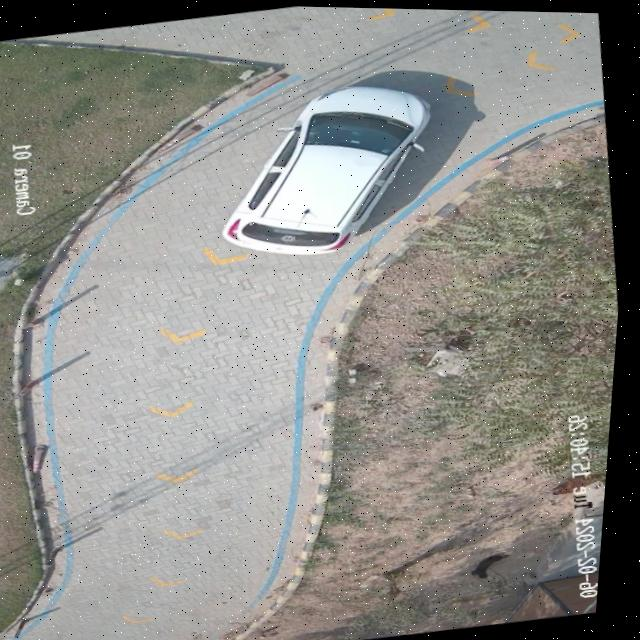car: (226, 84, 432, 254)
